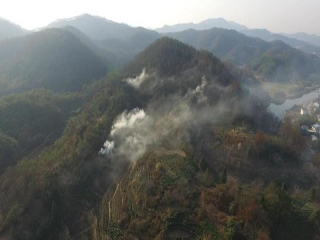smoke: (97, 66, 215, 169)
